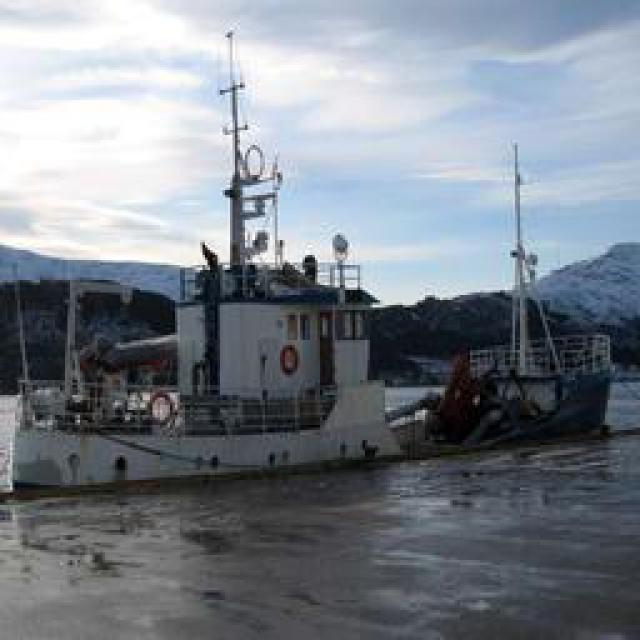Ship: (20, 216, 548, 494)
